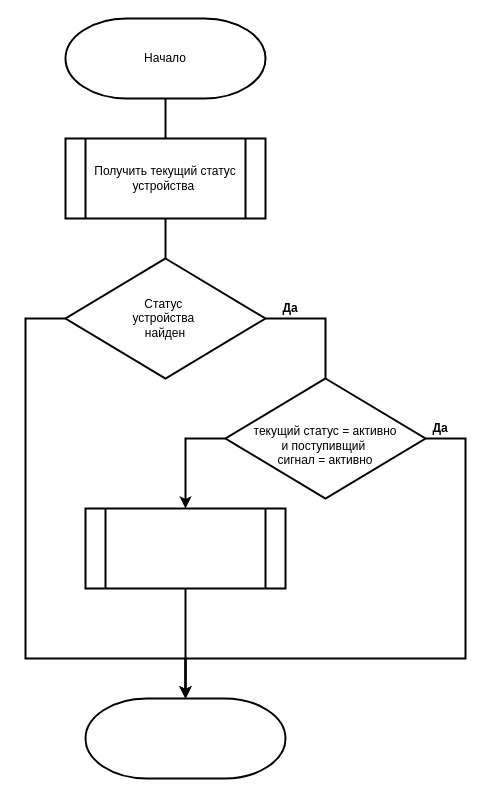
Image size: 492x796. Some labels were removed from this diagram. Here are the shapes that lost their labels. From the top down, the centre of each, then its label:
At [185,548]: "Обновить текущий статус устройства".
At [185,738]: "Конец".
